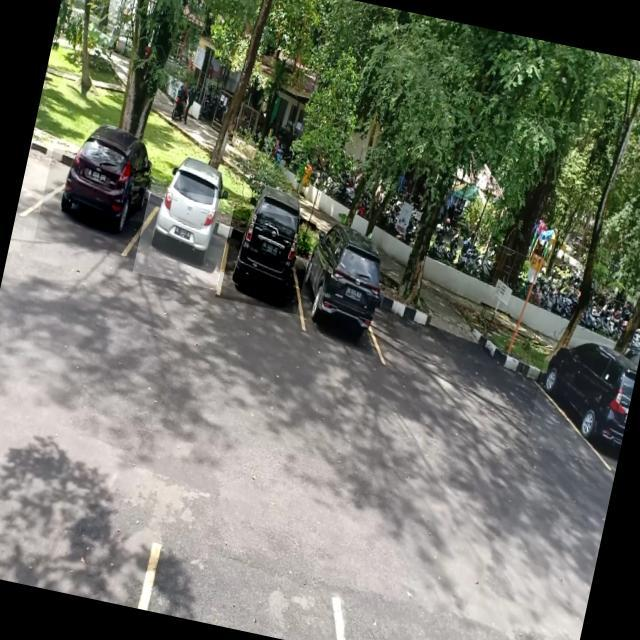occupied: (525, 332, 640, 465), (34, 148, 154, 260), (292, 232, 398, 348), (132, 184, 238, 290), (215, 206, 316, 314)
